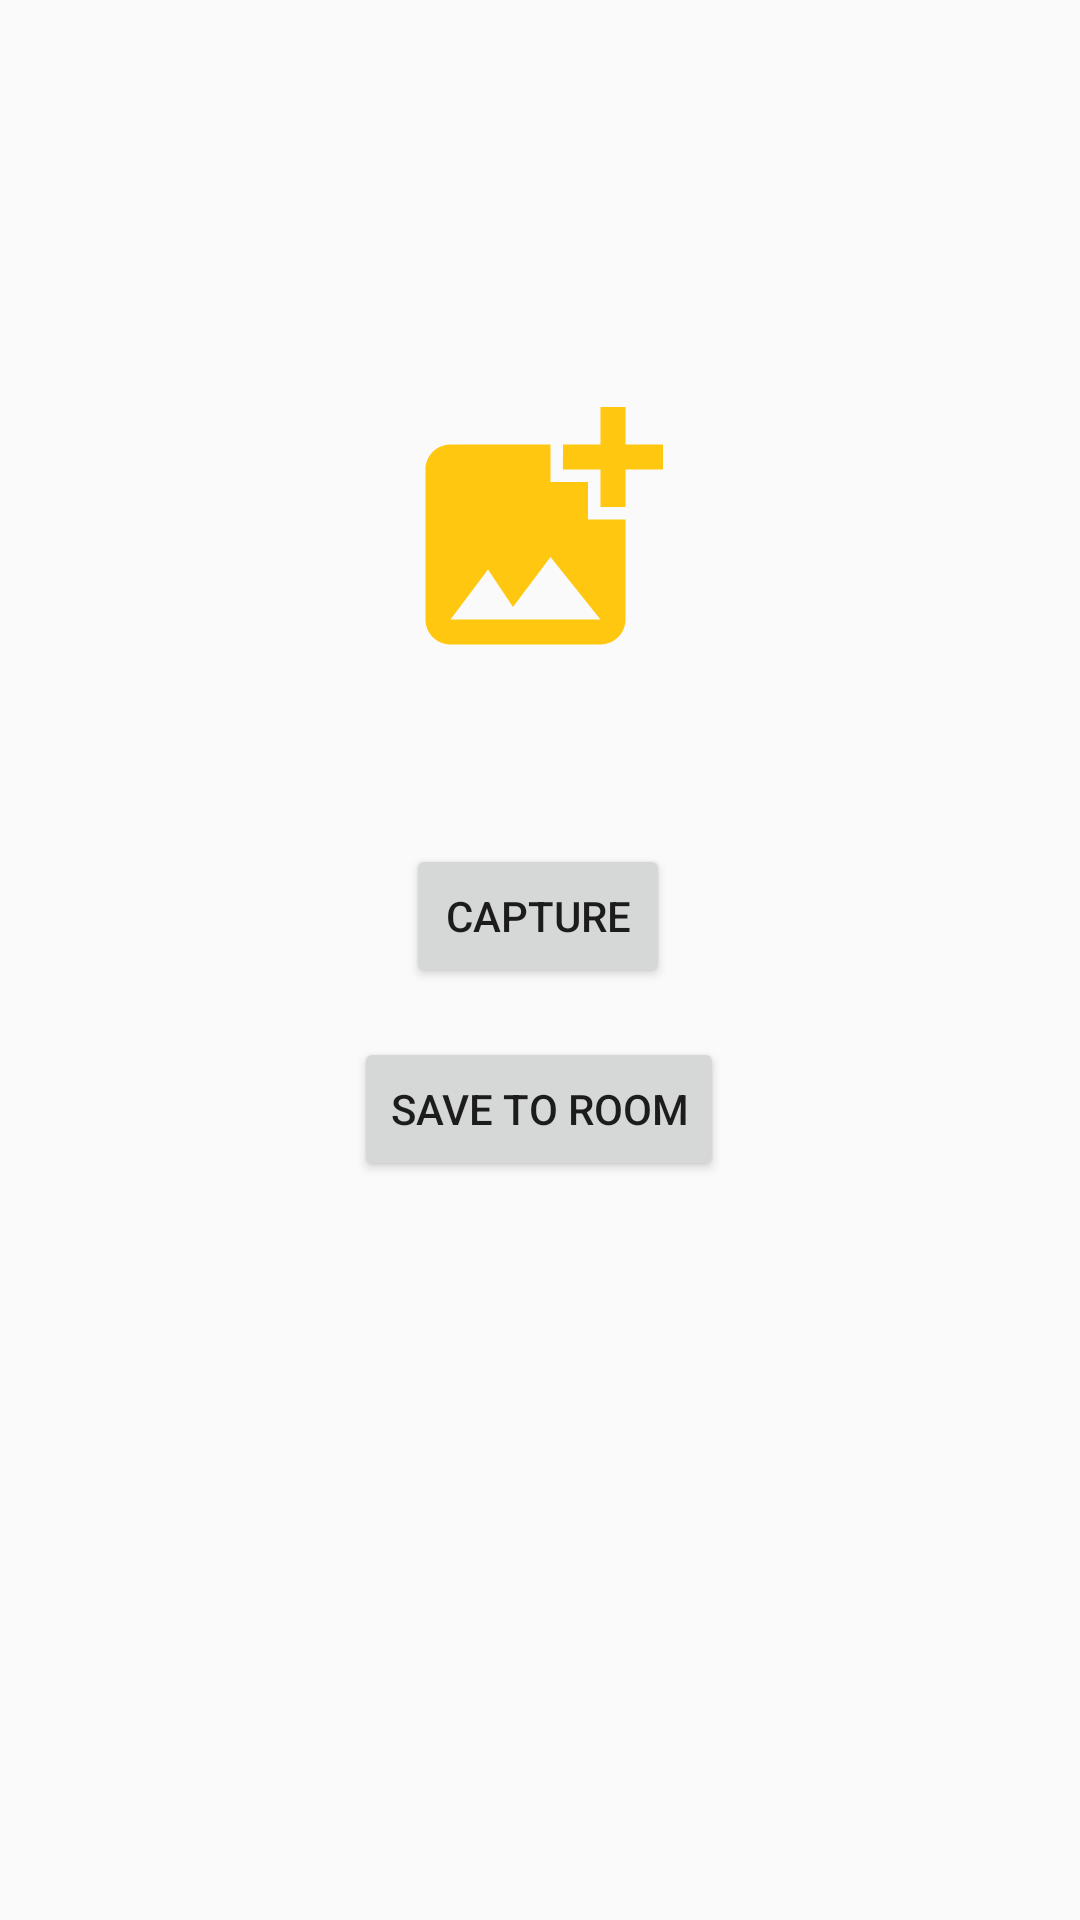

Where to tap for icons on this 1080×1920 app screen, as [x,y]:
camerayello: [544,526]
